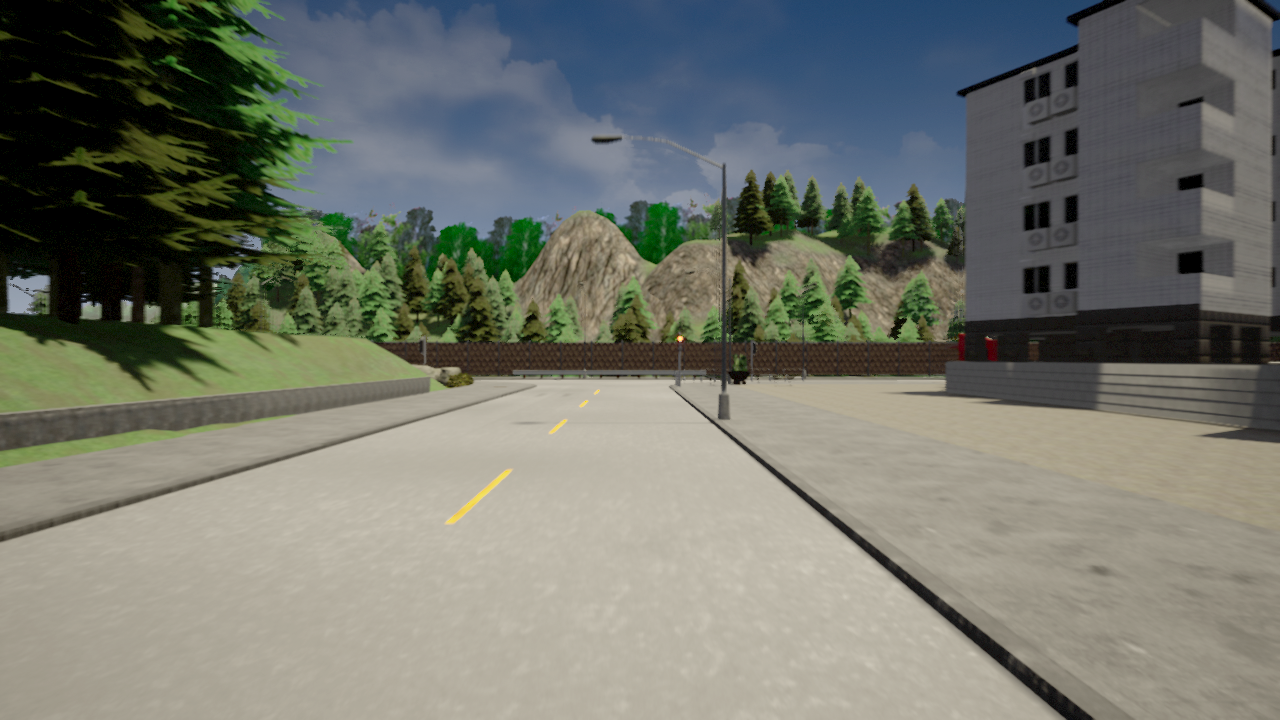red: (676, 334, 684, 352)
